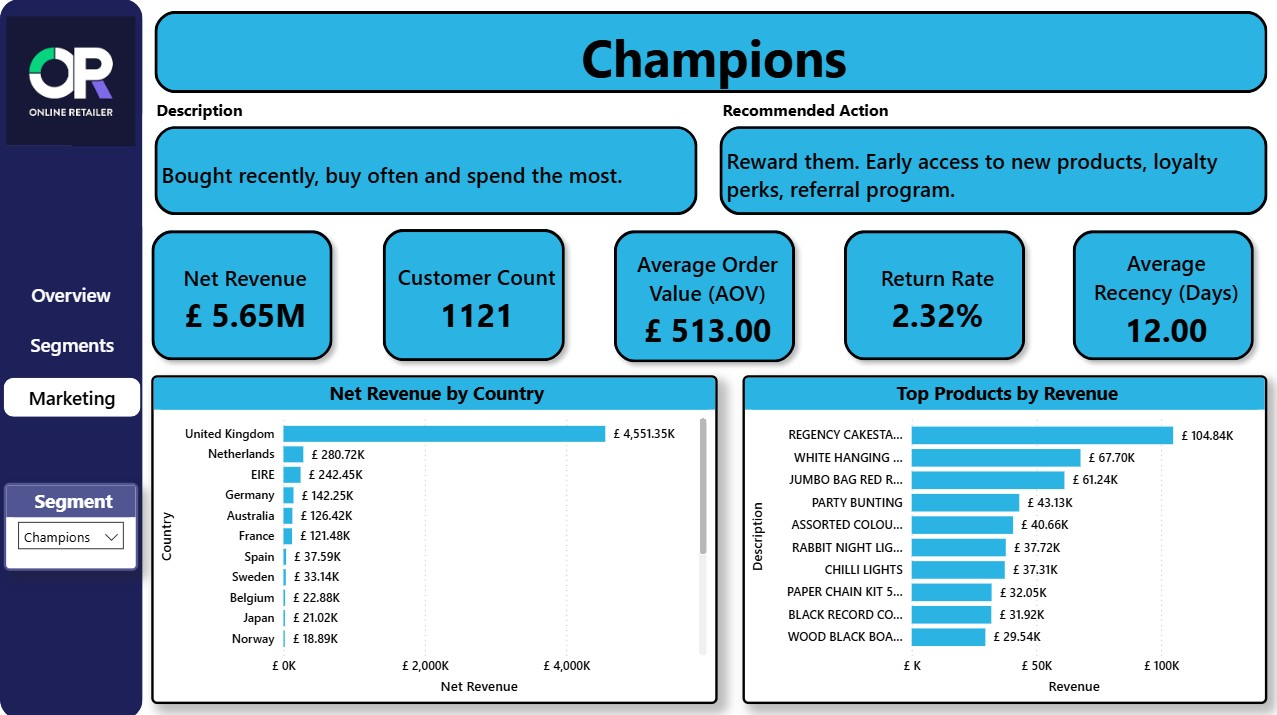

This screenshot's page, from the dashboard's own definition file:
{"tool":"powerbi","page":{"name":"Marketing","canvas":[1280,720],"ordinal":2},"visuals":[{"type":"cardVisual","fields":{"Data":["Avg(dim_customer.Recency)"]},"box":[1049,203,231,183.9],"z":0},{"type":"cardVisual","fields":{"Data":["fact_sales.Return Rate %"]},"box":[819.8,203,232,183.9],"z":1000},{"type":"cardVisual","fields":{"Data":["fact_sales.AOV"]},"box":[589.9,203,232,185.5],"z":2000},{"type":"cardVisual","fields":{"Data":["fact_sales.Net Revenue"]},"box":[128,203,232,183.9],"z":3000},{"type":"cardVisual","fields":{"Data":["dim_customer.Customer Count"]},"box":[359,200.8,232,185.3],"z":4000},{"type":"cardVisual","fields":{"Data":["dim_segment.Selected Segment"]},"box":[142.5,0,1137.5,106],"z":5000},{"type":"shape","box":[0,0,142.6,720.3],"z":6000},{"type":"image","box":[2.4,18,136.6,129.4],"z":7000},{"type":"actionButton","box":[2.3,275.7,136.7,39.1],"z":8000},{"type":"actionButton","box":[3.4,326.2,136.7,39.1],"z":9000},{"type":"actionButton","box":[3.4,379.1,136.7,39.1],"z":10000},{"type":"slicer","title":"Segment","fields":{"Values":["dim_segment.Segment"]},"box":[3.9,483.2,134.7,88.1],"z":11000},{"type":"clusteredBarChart","title":"Top Products by Revenue","fields":{"Y":["Sum(product_affinity.Revenue)"],"Category":["product_affinity.Description"]},"box":[742.3,375.7,524.7,329.1],"z":12000},{"type":"cardVisual","title":"Description","fields":{"Data":["dim_segment.Selected Segment Description"]},"box":[142.5,108.8,567.4,119],"z":13000},{"type":"cardVisual","title":"Recommended Action","fields":{"Data":["dim_segment.Selected Segment Action"]},"box":[707.4,108.8,572.6,119.2],"z":14000},{"type":"textbox","box":[151.6,94.6,116.6,32.4],"z":15000},{"type":"textbox","box":[717.7,94.6,181.4,32.4],"z":16000},{"type":"clusteredBarChart","fields":{"Y":["fact_sales.Net Revenue"],"Category":["dim_customer.Country"]},"box":[151.6,375.7,566.2,329.1],"z":17000}]}

Visuals, with their boxes in screenshot pixels (x1, y1, x2, y2), scaled from the page's 1280x720 canvas onto the 1277x715 screenshot:
cardVisual - Avg(dim_customer.Recency): 1047/202/1276/384
cardVisual - fact_sales.Return Rate %: 818/202/1049/384
cardVisual - fact_sales.AOV: 589/202/820/386
cardVisual - fact_sales.Net Revenue: 128/202/359/384
cardVisual - dim_customer.Customer Count: 358/199/590/383
cardVisual - dim_segment.Selected Segment: 142/0/1276/105
shape: 0/0/142/714
image: 2/18/139/146
actionButton: 2/274/139/313
actionButton: 3/324/140/363
actionButton: 3/376/140/415
"Segment" slicer: 4/480/138/567
"Top Products by Revenue" clusteredBarChart: 741/373/1264/700
"Description" cardVisual: 142/108/708/226
"Recommended Action" cardVisual: 706/108/1276/226
textbox: 151/94/268/126
textbox: 716/94/897/126
clusteredBarChart - fact_sales.Net Revenue x dim_customer.Country: 151/373/716/700
